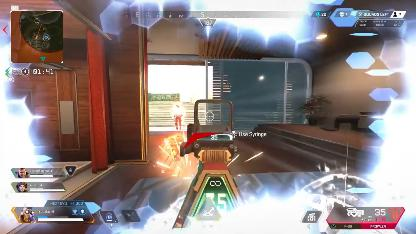Target: (172, 102, 184, 130)
